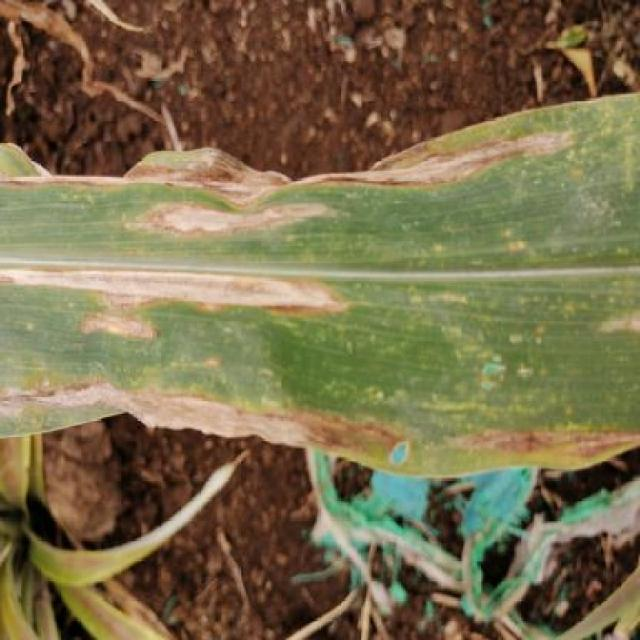Corn_Leaf_Blight: (0, 84, 640, 484)
